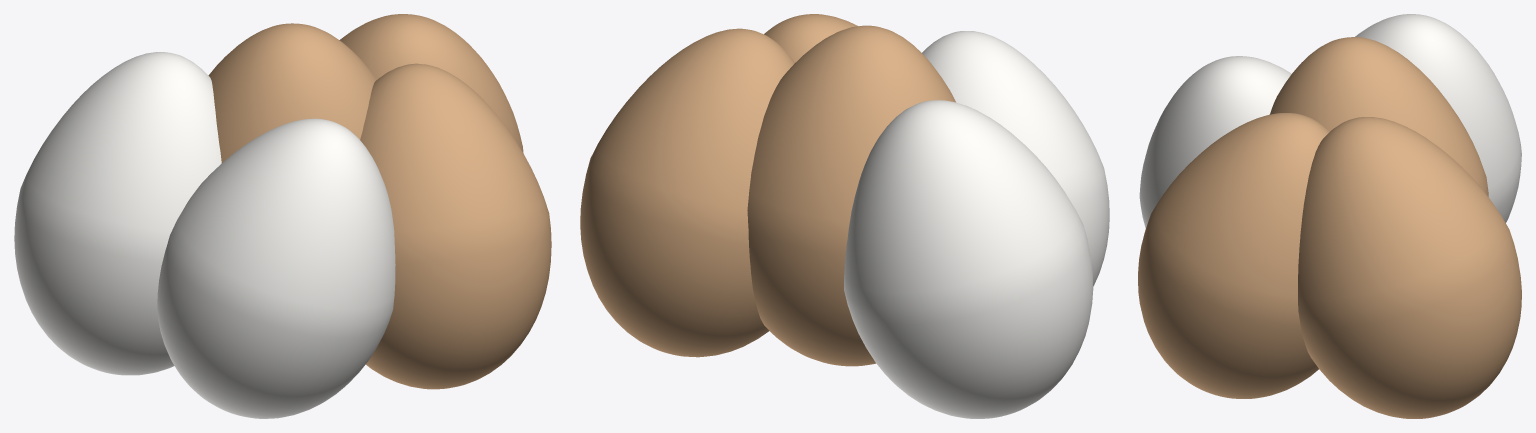
The model's file is egg-collection.glb.
3 views of the same model, side by side, from view 1: azimuth 30°, elevation 25°; view 2: azimuth 150°, elevation 25°; view 3: azimuth 270°, elevation 25° (orthographic). The views are drawn at different scales.
Visible parts, largest first — view 1: Egg_Col_4_White, Egg_Col_2_White, Egg_Col_5_Brown, Egg_Col_1_Brown, Egg_Col_3_Brown; view 2: Egg_Col_2_White, Egg_Col_3_Brown, Egg_Col_1_Brown, Egg_Col_4_White, Egg_Col_5_Brown; view 3: Egg_Col_3_Brown, Egg_Col_5_Brown, Egg_Col_1_Brown, Egg_Col_2_White, Egg_Col_4_White.
Boxes of the visible parts, box(x1,y1,x2,y2) form: Egg_Col_4_White: box(157, 118, 395, 418); Egg_Col_2_White: box(14, 52, 221, 375); Egg_Col_5_Brown: box(360, 63, 551, 389); Egg_Col_1_Brown: box(208, 23, 376, 162); Egg_Col_3_Brown: box(339, 14, 523, 152); Egg_Col_2_White: box(844, 100, 1093, 418); Egg_Col_3_Brown: box(580, 28, 794, 357); Egg_Col_1_Brown: box(747, 25, 955, 366); Egg_Col_4_White: box(922, 31, 1109, 286); Egg_Col_5_Brown: box(764, 14, 858, 62); Egg_Col_3_Brown: box(1298, 117, 1521, 418); Egg_Col_5_Brown: box(1138, 113, 1329, 398); Egg_Col_1_Brown: box(1270, 37, 1488, 196); Egg_Col_2_White: box(1355, 14, 1521, 222); Egg_Col_4_White: box(1139, 56, 1291, 228).
Size of the model in its own units: 3.18 by 2.09 by 2.35.
